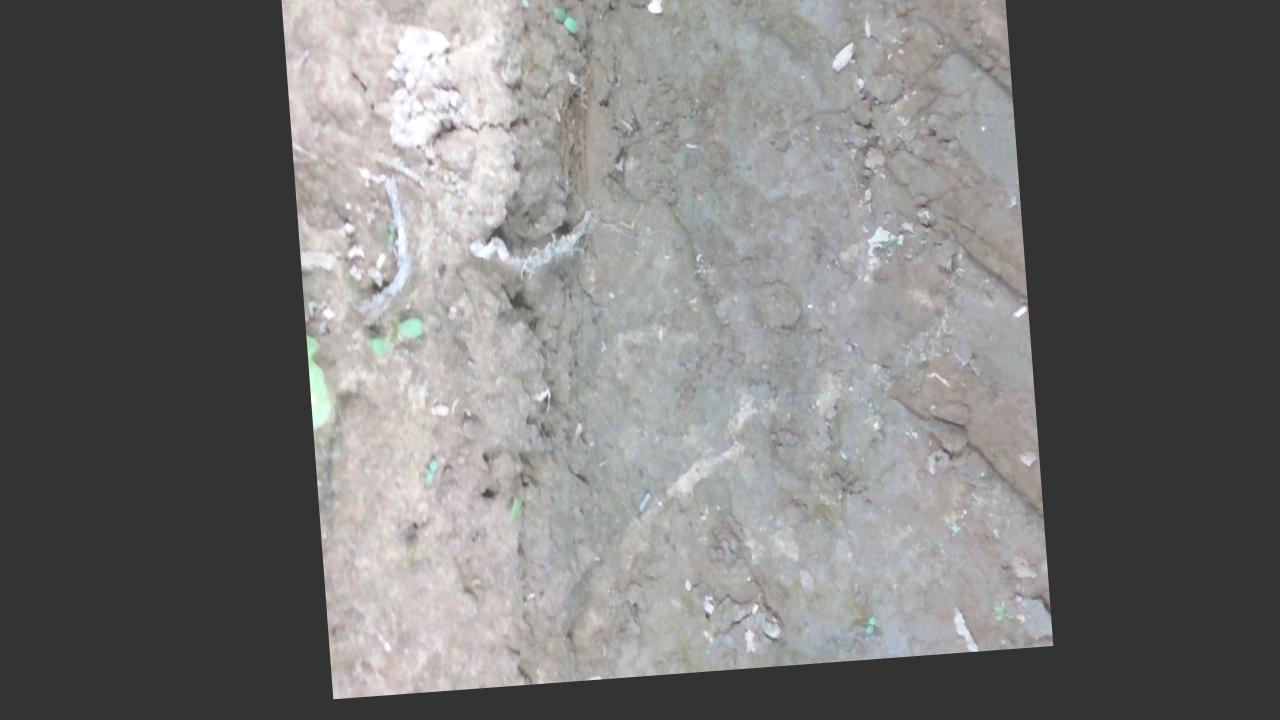weed: (361, 321, 421, 363), (549, 15, 580, 46), (412, 466, 433, 498)
